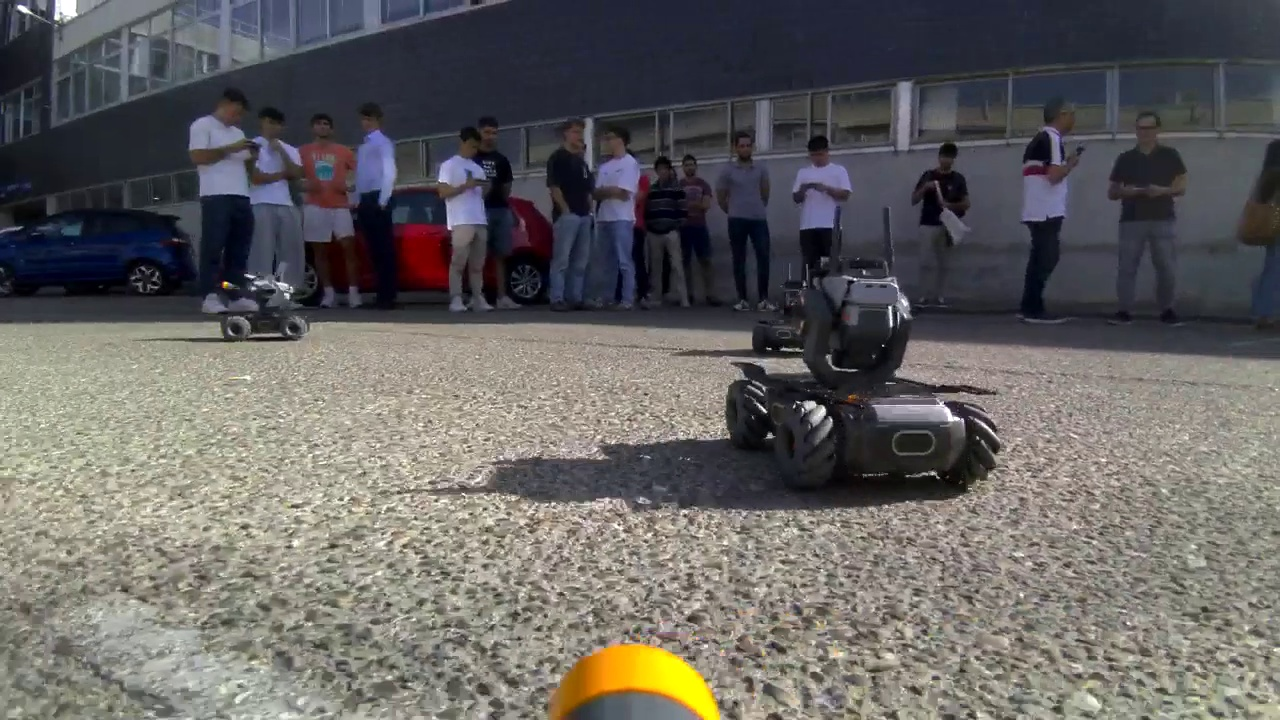robot: (719, 246, 1001, 484), (202, 274, 311, 344), (751, 265, 807, 339)
